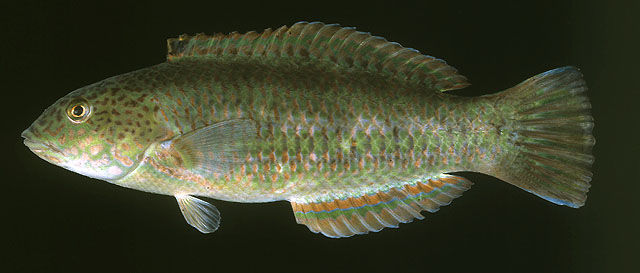fish: (20, 20, 597, 239)
